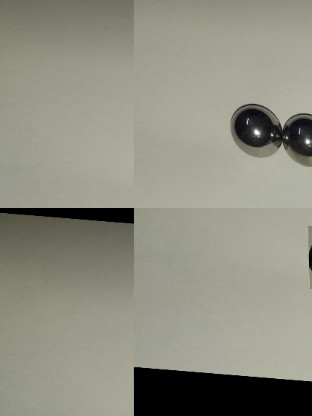ironball: (228, 103, 284, 156), (280, 111, 311, 167)
